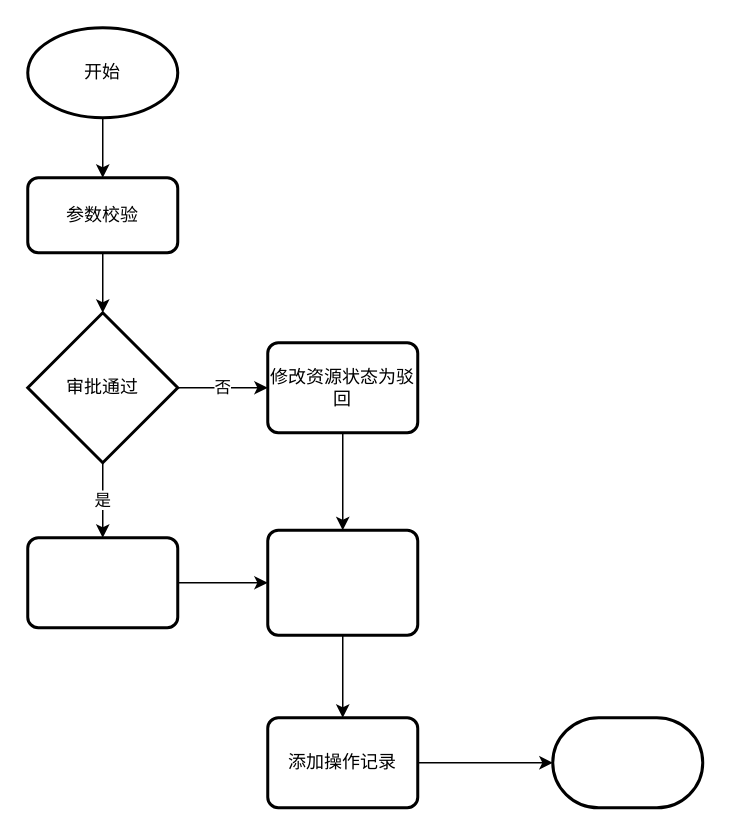
This 729x834 diagram has some shape labels left out. The shapes that lost their labels are listed below. From the top down, each one's box as (x1, y1, x2, y2) in pixels, then its label:
(26, 536, 178, 628): 修改资源状态为已发布
(266, 528, 418, 636): 处理工单
(550, 716, 704, 808): 结束
